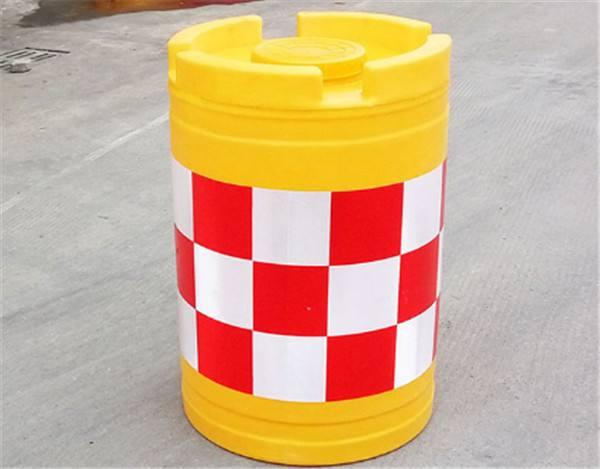sign: (139, 9, 459, 465)
